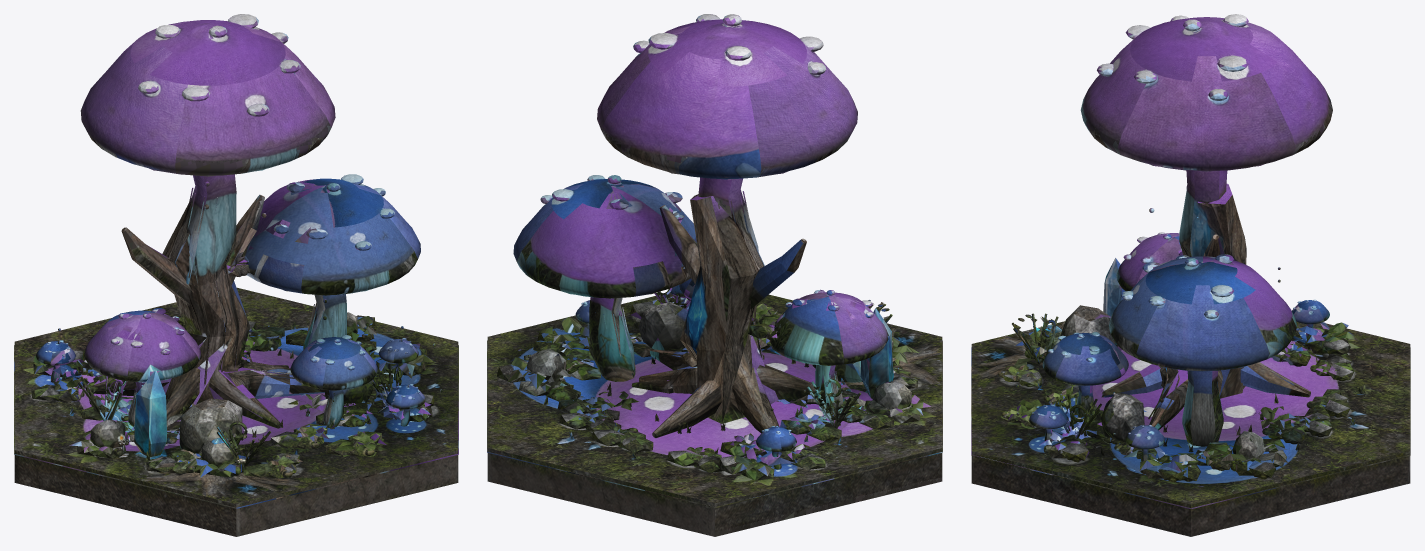
File: hex_bioluminescent_grove.glb
3 views of the same model, side by side, from view 1: azimuth 30°, elevation 25°; view 2: azimuth 150°, elevation 25°; view 3: azimuth 270°, elevation 25° (orthographic). The views are drawn at different scales.
Visible parts, largest first — view 1: Standard hex meadow top.001, Broad faceted mushroom cap.002, Broad faceted mushroom cap.003, Standard hex stone foundation.001, Ancient twisting trunk.001, Broad faceted mushroom cap.004, Curving luminous mushroom stem.002, Standard hex earth layer.001, Broad faceted mushroom cap.005, Angular mossy forest boulder.001, Faceted magical crystal.001, Broken woodland branch.002 (+12 smaller); view 2: Standard hex meadow top.001, Broad faceted mushroom cap.002, Broad faceted mushroom cap.003, Ancient twisting trunk.001, Standard hex stone foundation.001, Broad faceted mushroom cap.004, Standard hex earth layer.001, Curving luminous mushroom stem.003, Angular mossy forest boulder.002, Tree buttress root.006, Tree buttress root.007, Curving luminous mushroom stem.002 (+10 smaller); view 3: Standard hex meadow top.001, Broad faceted mushroom cap.002, Broad faceted mushroom cap.003, Standard hex stone foundation.001, Broad faceted mushroom cap.005, Standard hex earth layer.001, Curving luminous mushroom stem.002, Curving luminous mushroom stem.003, Ancient twisting trunk.001, Broad faceted mushroom cap.004, Angular mossy forest boulder.002, Gnarled exposed root.001 (+9 smaller).
Part boxes in pixels (x1,y1,x2,y2): Standard hex meadow top.001: [14, 287, 458, 507]; Broad faceted mushroom cap.002: [80, 20, 335, 175]; Broad faceted mushroom cap.003: [245, 178, 420, 294]; Standard hex stone foundation.001: [14, 462, 458, 536]; Ancient twisting trunk.001: [162, 191, 250, 404]; Broad faceted mushroom cap.004: [84, 310, 200, 382]; Curving luminous mushroom stem.002: [186, 174, 236, 285]; Standard hex earth layer.001: [14, 455, 458, 515]; Broad faceted mushroom cap.005: [290, 337, 377, 390]; Angular mossy forest boulder.001: [179, 398, 242, 457]; Faceted magical crystal.001: [134, 369, 166, 456]; Broken woodland branch.002: [121, 227, 193, 304]; Standard hex meadow top.001: [487, 293, 942, 506]; Broad faceted mushroom cap.002: [597, 19, 857, 178]; Broad faceted mushroom cap.003: [513, 179, 696, 298]; Ancient twisting trunk.001: [680, 194, 778, 423]; Standard hex stone foundation.001: [487, 460, 942, 536]; Broad faceted mushroom cap.004: [769, 292, 888, 365]; Standard hex earth layer.001: [487, 453, 942, 515]; Curving luminous mushroom stem.003: [589, 297, 635, 381]; Angular mossy forest boulder.002: [638, 302, 687, 351]; Tree buttress root.006: [652, 380, 721, 437]; Tree buttress root.007: [732, 367, 779, 433]; Curving luminous mushroom stem.002: [698, 177, 758, 251]; Standard hex meadow top.001: [971, 321, 1410, 507]; Broad faceted mushroom cap.002: [1080, 17, 1332, 171]; Broad faceted mushroom cap.003: [1108, 256, 1296, 371]; Standard hex stone foundation.001: [971, 463, 1410, 536]; Broad faceted mushroom cap.005: [1042, 333, 1128, 385]; Standard hex earth layer.001: [971, 456, 1410, 516]; Curving luminous mushroom stem.002: [1179, 170, 1227, 256]; Curving luminous mushroom stem.003: [1182, 371, 1223, 446]; Ancient twisting trunk.001: [1197, 183, 1246, 398]; Broad faceted mushroom cap.004: [1116, 233, 1181, 291]; Angular mossy forest boulder.002: [1100, 392, 1144, 442]; Gnarled exposed root.001: [1149, 366, 1188, 430].
Size of the model in its own units: 5.11 by 4.45 by 4.42.
Materials: 5 (5 with a texture image).
